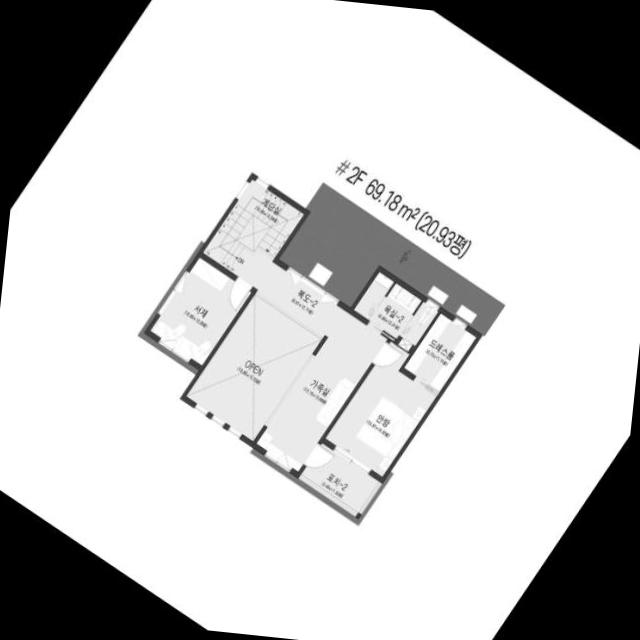background: (0, 0, 640, 640)
space_balconi: (300, 442, 378, 512)
space_bedroom: (324, 341, 435, 476)
space_dressroom: (403, 312, 475, 391)
space_living_room: (254, 261, 387, 471)
space_other: (185, 294, 321, 441), (149, 256, 250, 365)
space_staircase: (201, 178, 303, 287)
space_toilet: (352, 271, 437, 351)
